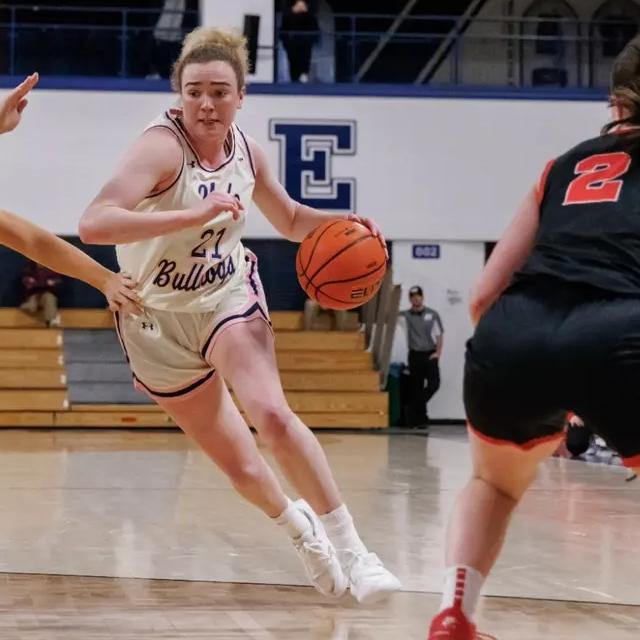basketball: (295, 218, 385, 309)
